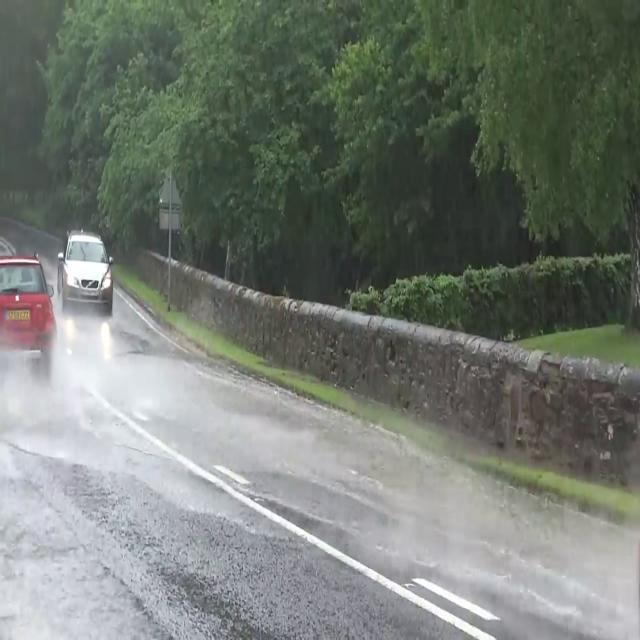license-plate-annotation: (0, 303, 36, 329)
